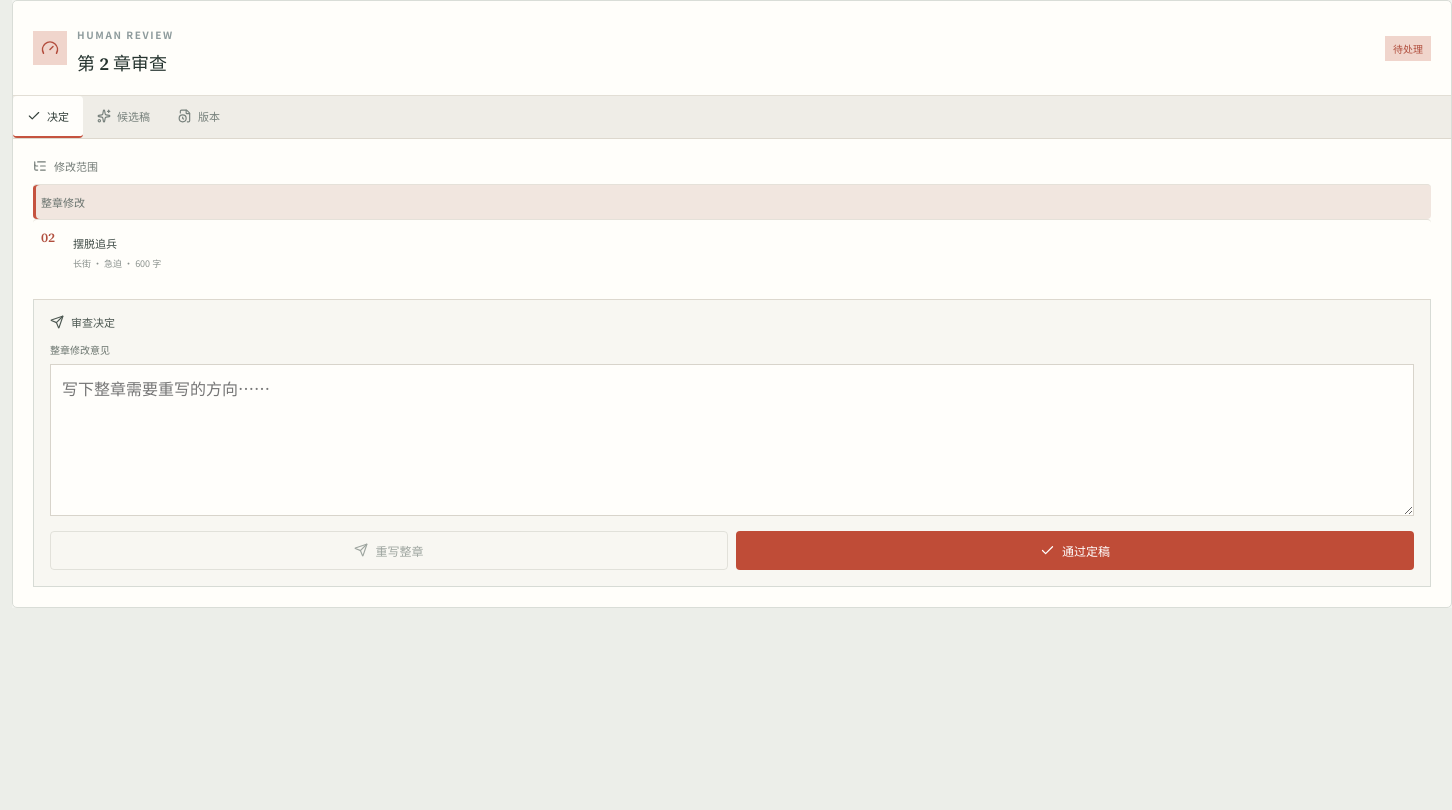
Test: ReviewWorkspace › shows the versions tab and active error when candidate adoption rejects
This screenshot has width=1452, height=810.
What coordinates should you click on to do the following:
click the tab "候选稿"
I would click on:
 (124, 117)
Its box is [83,96,164,138].
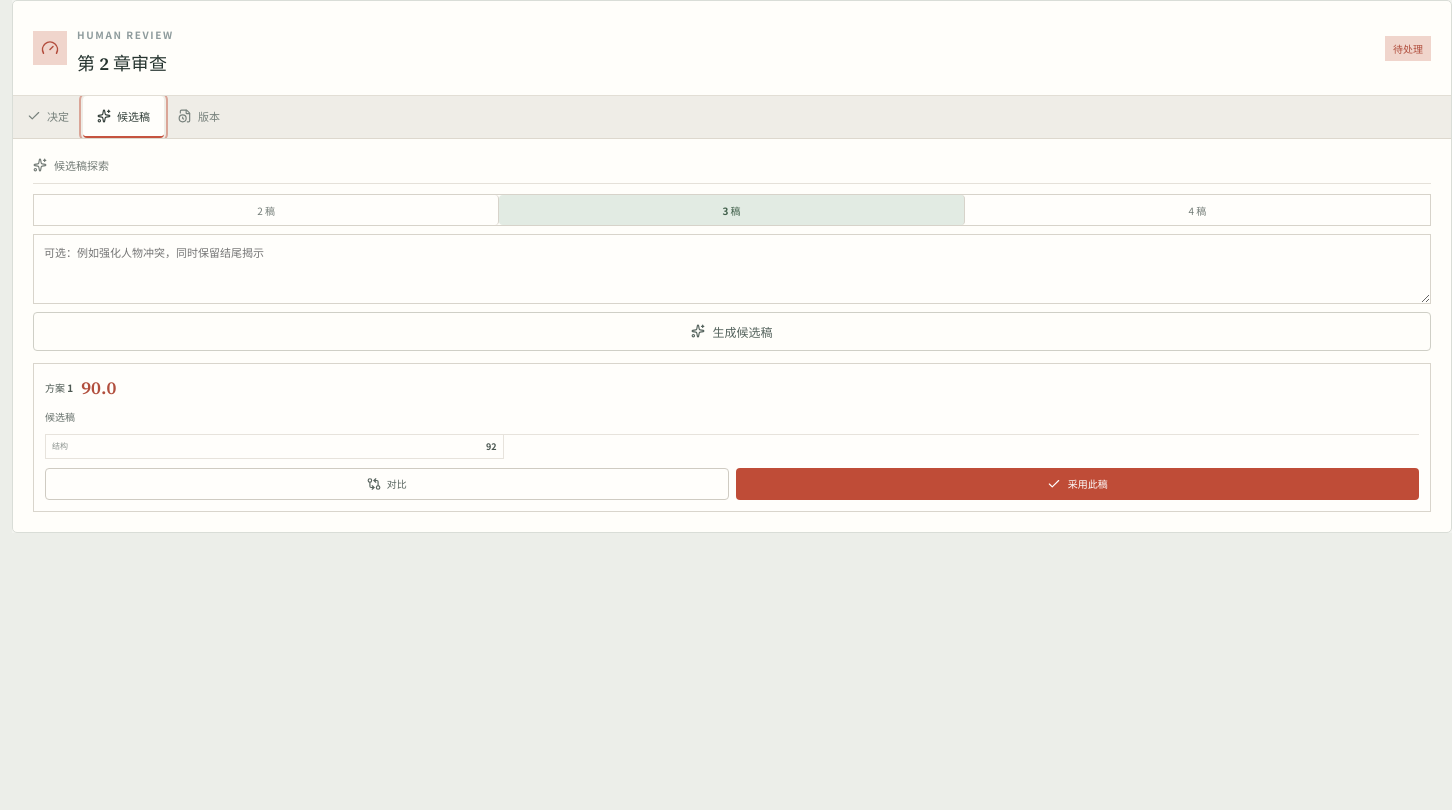
What coordinates should you click on to do the following:
click the button "采用此稿"
I would click on:
 (1077, 484)
Its box is [736,468,1419,500].
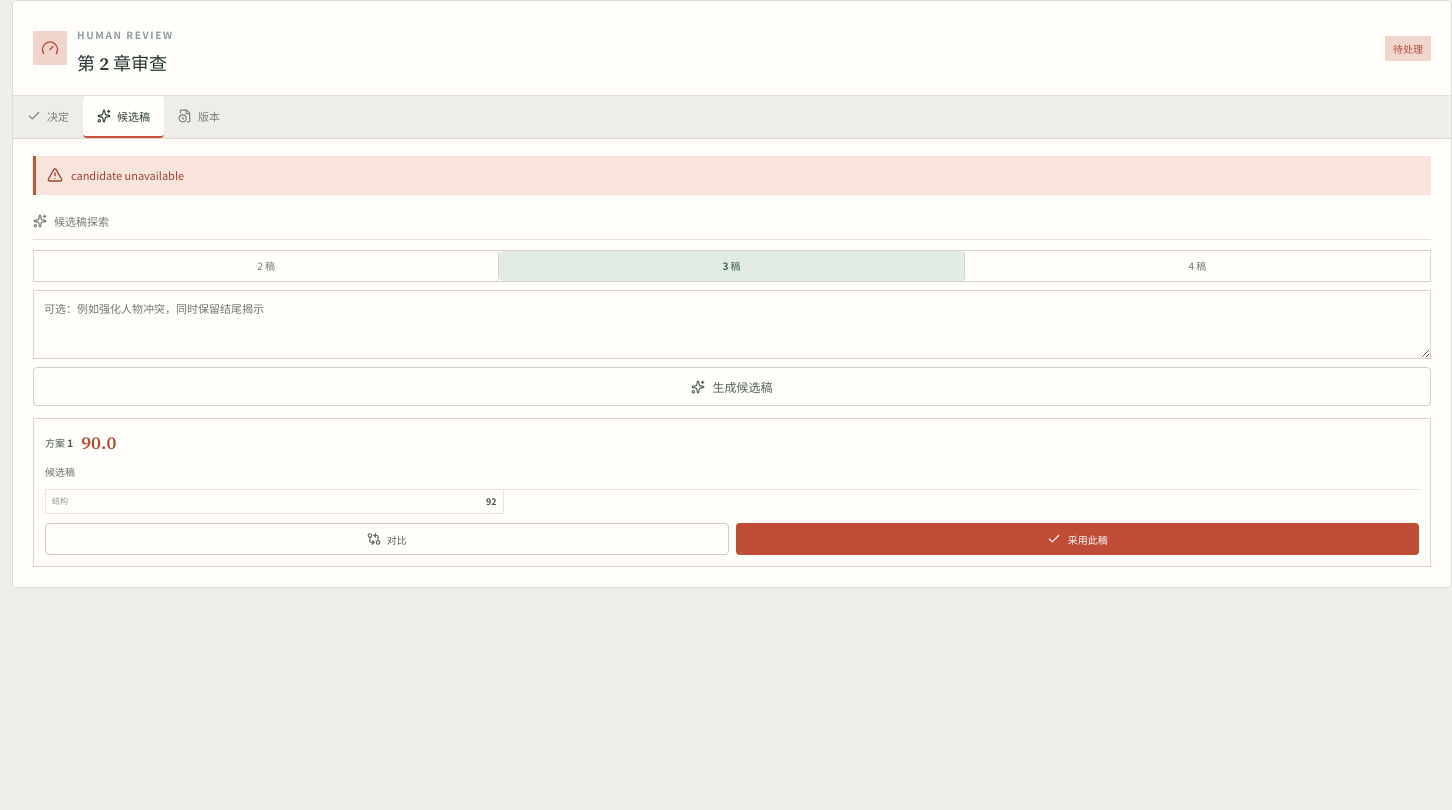
Check: the panel "候选稿" is shown, box [13,139,1451,567]
Check: the message reads "candidate unavailable", box [71,167,184,183]
